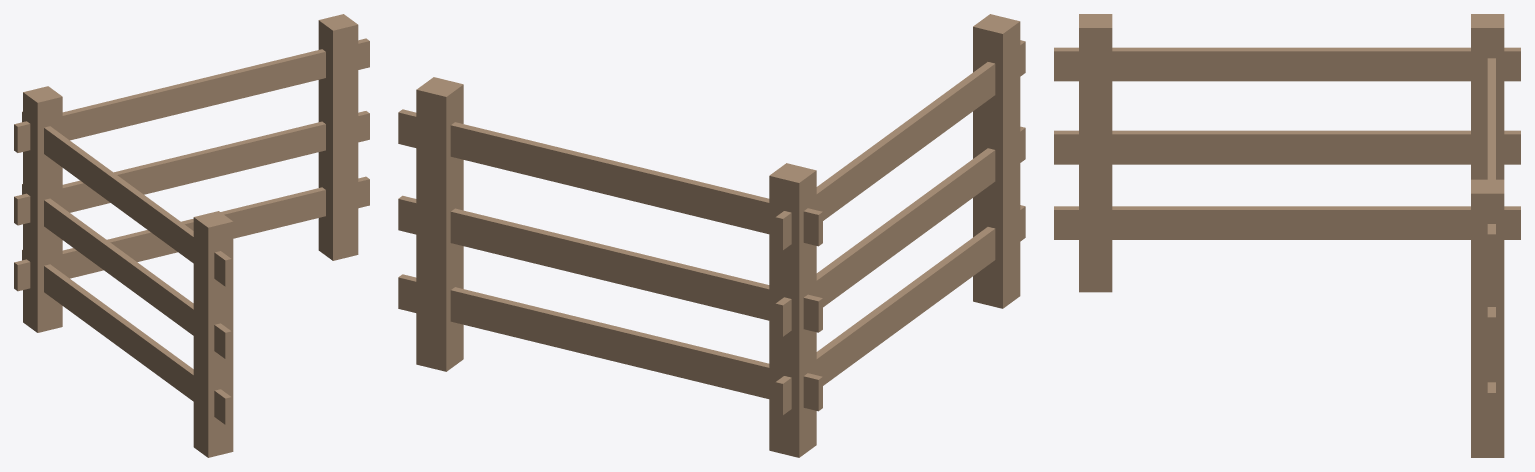
File: Fence Corner.obj
3 renders of one model, left to right at view 1: azimuth 30°, elevation 25°; view 2: azimuth 150°, elevation 25°; view 3: azimuth 270°, elevation 25°, orthographic. The views are drawn at different scales.
Size of the model in its own units: 56 by 35 by 56.
1 material, 1 textured.
